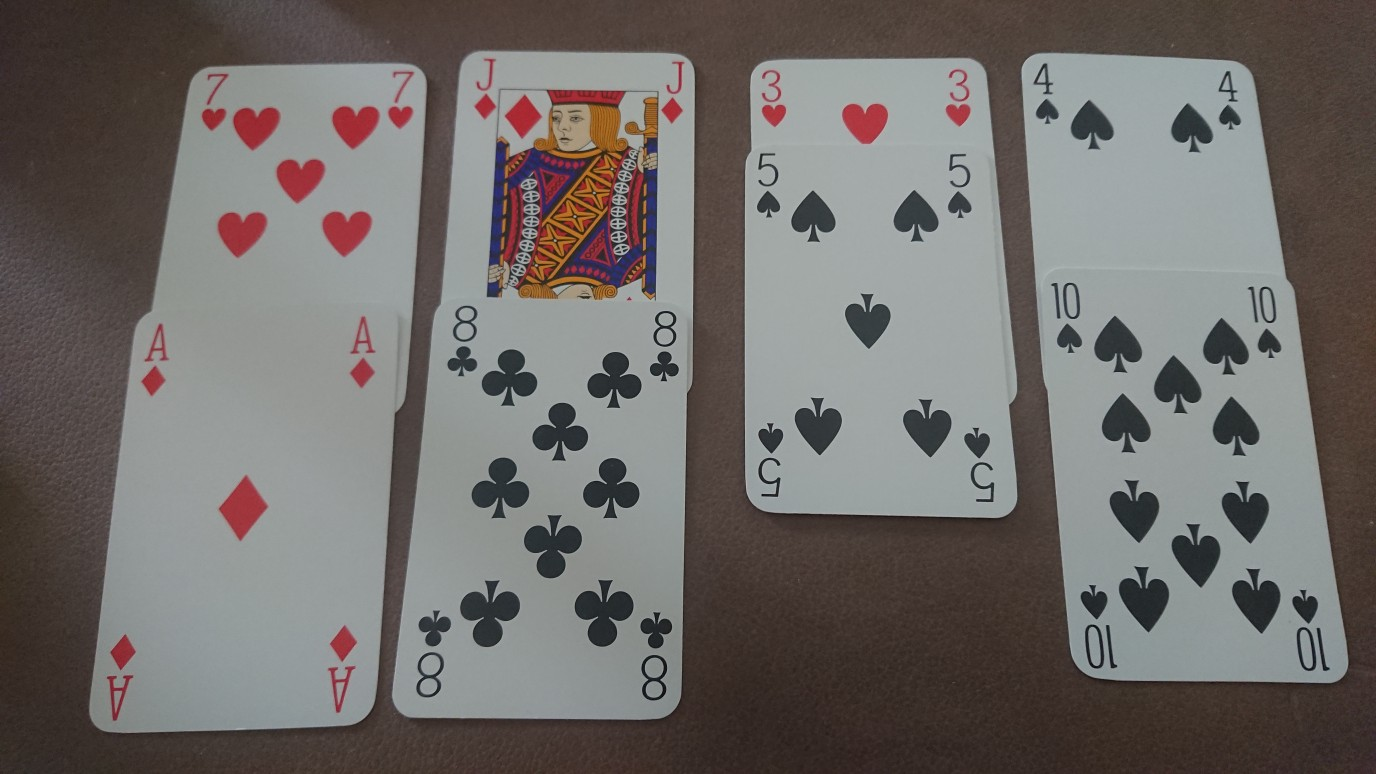10S: (1243, 277, 1287, 361), (1047, 274, 1087, 363)
3H: (757, 65, 789, 133), (943, 66, 977, 130)
4S: (1031, 57, 1063, 134), (1213, 66, 1246, 137)
5S: (752, 148, 787, 225), (942, 148, 976, 223)
7H: (196, 66, 231, 136), (384, 66, 418, 132)
8C: (444, 302, 483, 386), (646, 308, 683, 385)
AD: (137, 318, 174, 401), (345, 313, 380, 392)
JD: (470, 53, 502, 127), (658, 56, 690, 126)
